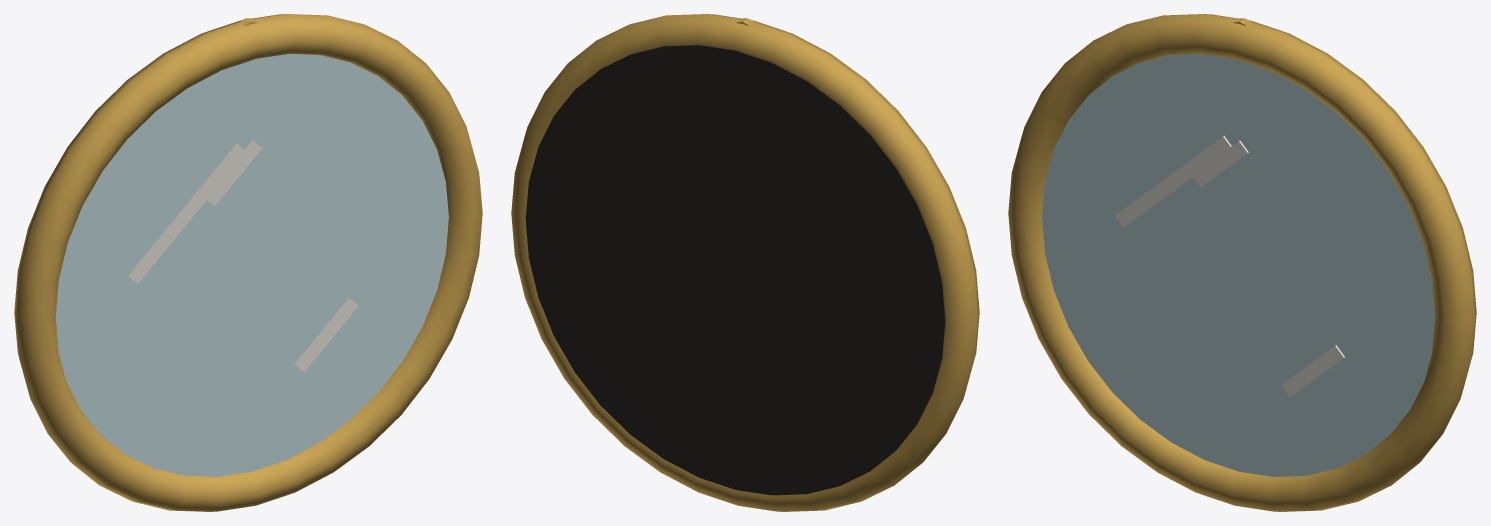
The model's file is hh_cat_mirror_round.glb.
3 views of the same model, side by side, from view 1: azimuth 30°, elevation 25°; view 2: azimuth 150°, elevation 25°; view 3: azimuth 330°, elevation 25° (orthographic).
Visible parts, largest first — view 1: mirror, frame, mirror_glint, mirror_glint.002, mirror_glint.001; view 2: backing, frame; view 3: mirror, frame, mirror_glint, mirror_glint.002, mirror_glint.001.
Boxes of the visible parts, x1,y1,x2,y2 form: mirror: (55,54,448,476); frame: (14,14,482,511); mirror_glint: (128,143,246,283); mirror_glint.002: (294,298,358,372); mirror_glint.001: (207,140,261,205); backing: (525,45,945,495); frame: (511,14,979,511); mirror: (1042,54,1435,476); frame: (1008,14,1476,511); mirror_glint: (1115,136,1231,227); mirror_glint.002: (1281,345,1344,397); mirror_glint.001: (1192,140,1248,187).
Bounding box in the file's own units: 0.5 × 0.5 × 0.04.
